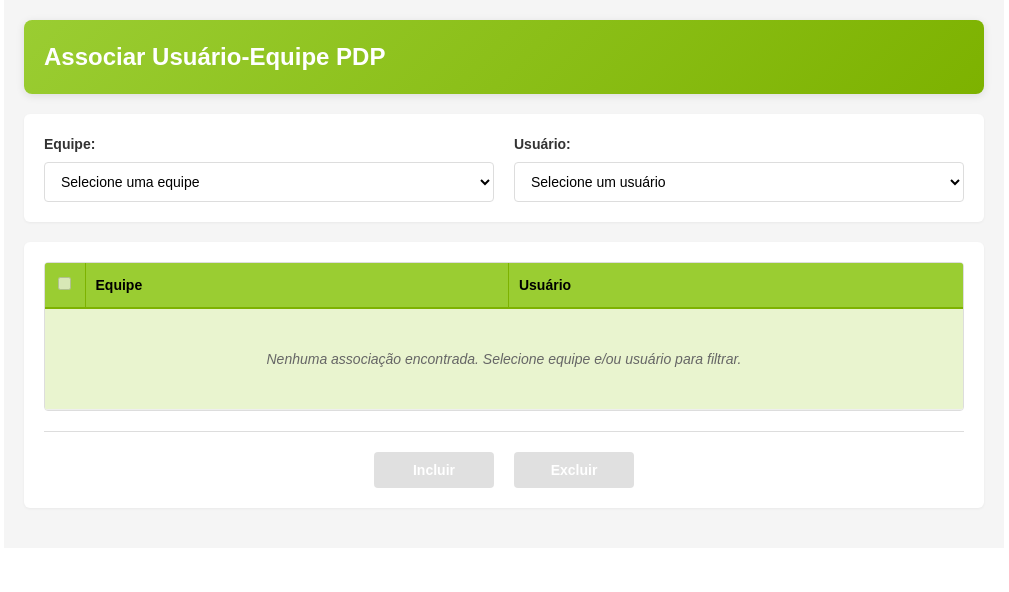
Test: UserTeamAssociation Component › Inclusão de Associação › deve exibir mensagem de sucesso após incluir
This screenshot has width=1009, height=592.
Select "EQUIPE ALPHA" in the dropdown with test id "equipe-select": (269,182) [44,162,494,202]
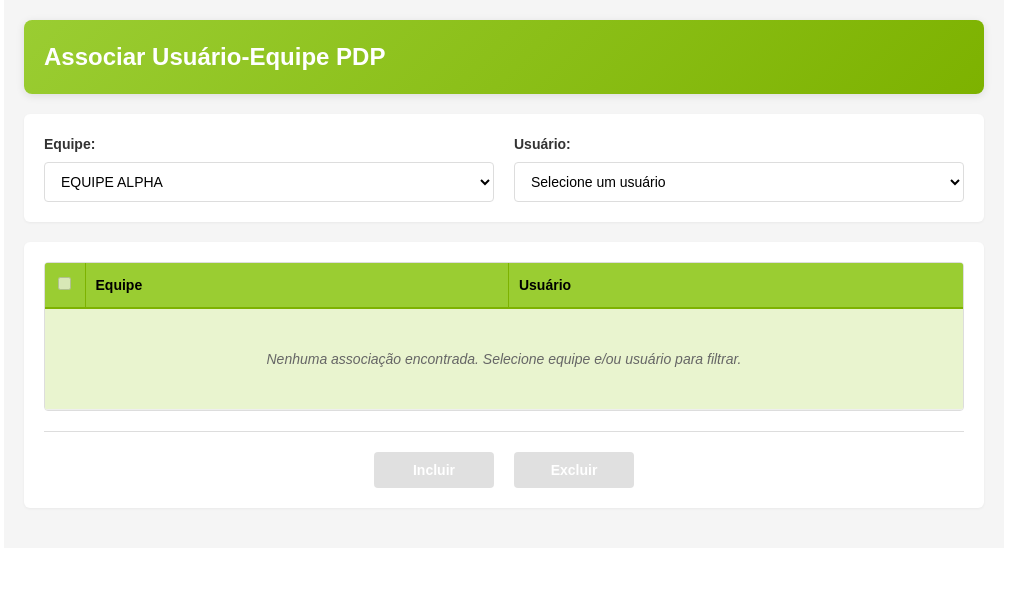
Select "JOÃO SILVA" in the dropdown with test id "usuario-select": (739,182) [514,162,964,202]
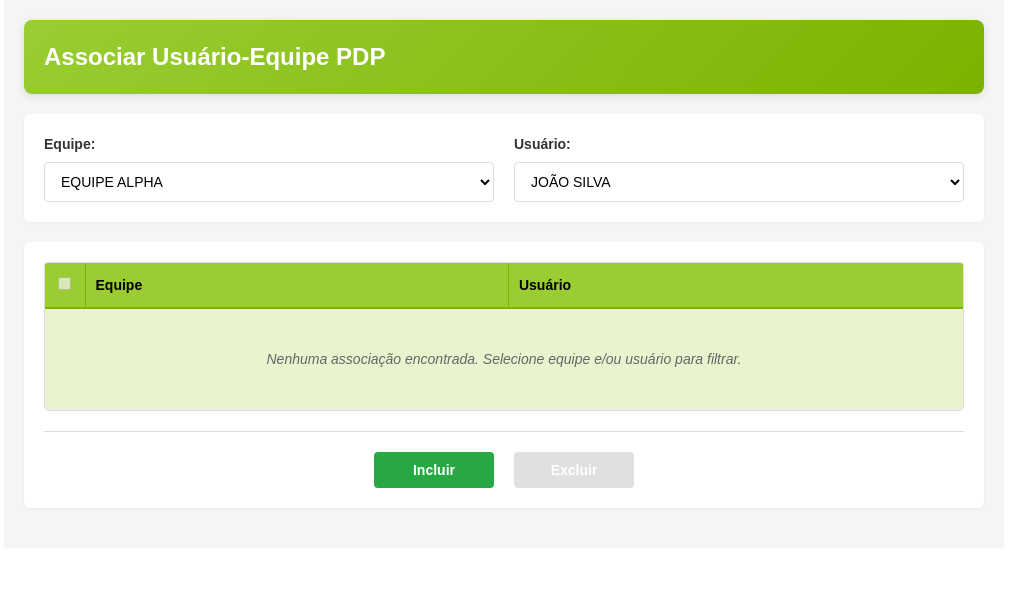
Now the button with test id "incluir-btn" is enabled
Click the button with test id "incluir-btn": (434,470) [374,452,494,488]
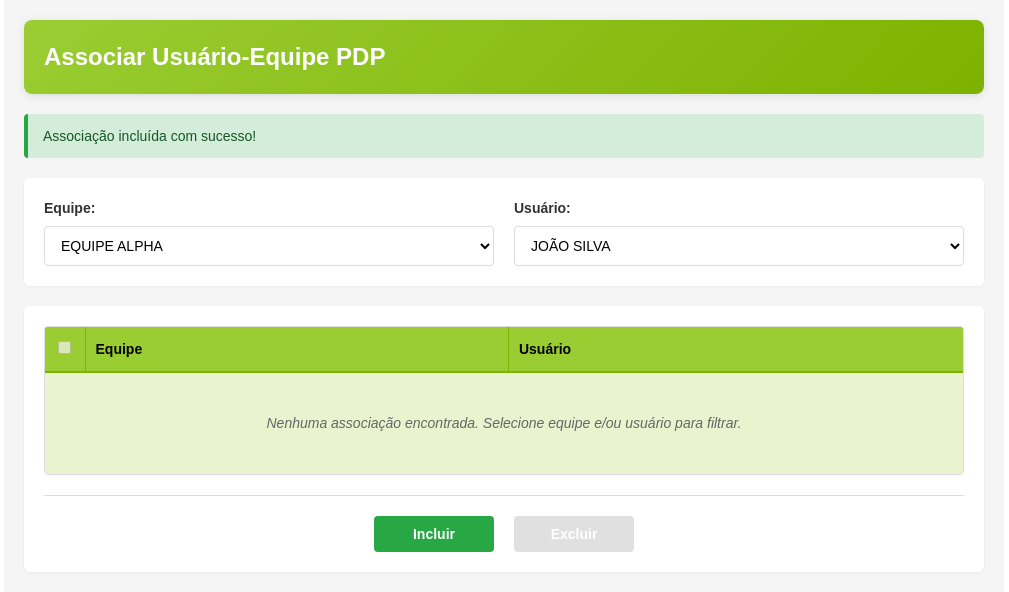
Now the text "Associação incluída com sucesso!" is shown, box [24,114,984,158]
